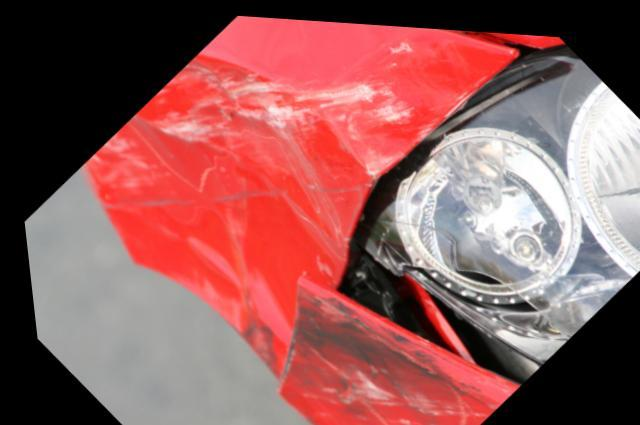lamp broken: (330, 36, 640, 376)
scratch: (77, 45, 422, 251), (268, 274, 512, 425)
